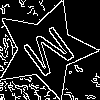M: (20, 25, 83, 86)
